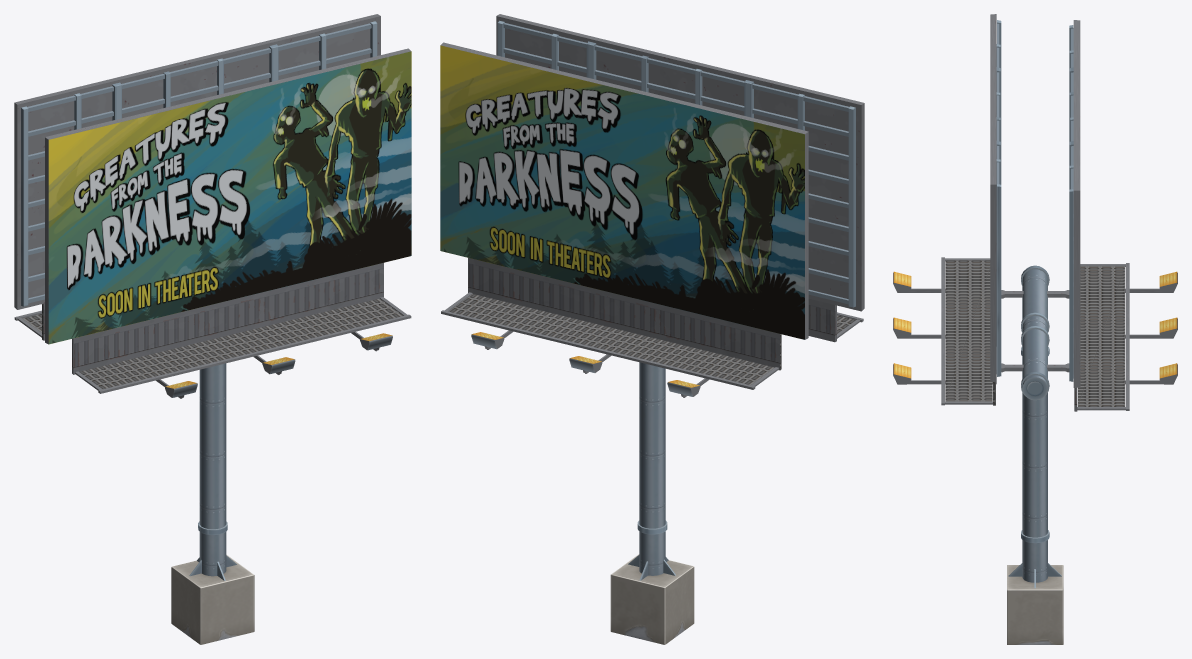
Rendered from Billboard3.fbx.
The picture shows the model from 3 angles, left to right: view 1: azimuth 30°, elevation 25°; view 2: azimuth 150°, elevation 25°; view 3: azimuth 270°, elevation 25°; orthographic projection. The views are drawn at different scales.
Visible parts, largest first — view 1: polySurface1407; view 2: polySurface1407; view 3: polySurface1407.
Part boxes in pixels (x1,y1,x2,y2): polySurface1407: (14,14,411,644); polySurface1407: (440,14,864,644); polySurface1407: (893,14,1177,644).
Bounding box in the file's own units: 418 × 586 × 285.
